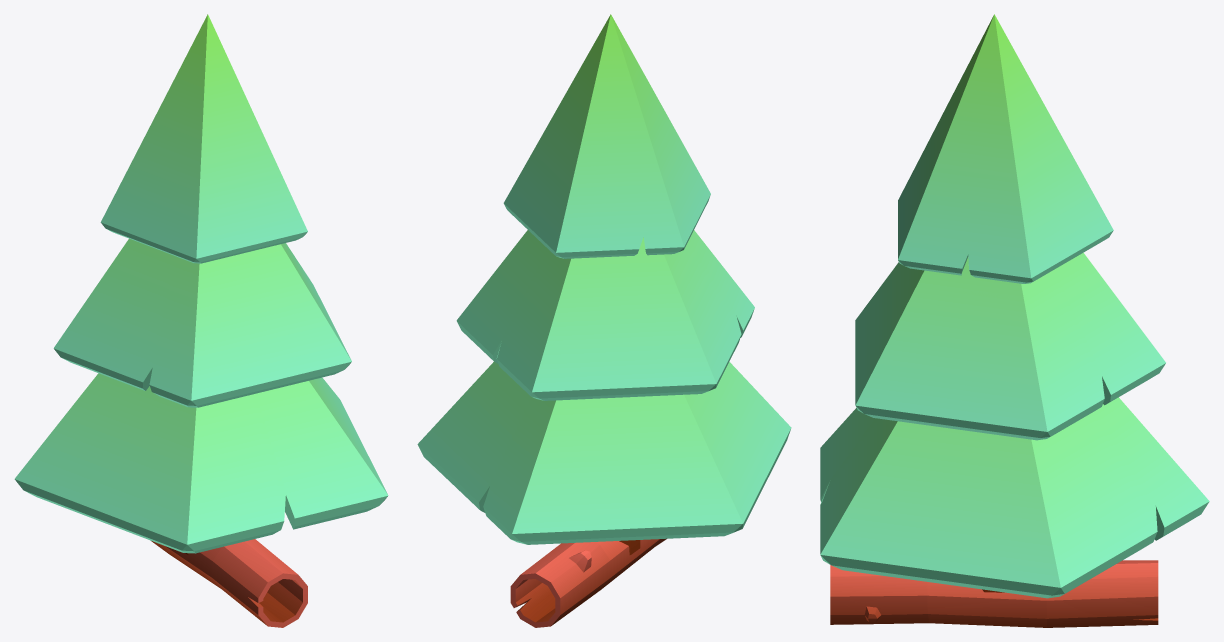
Rendered from treesnstuff.glb.
3 renders of one model, left to right at view 1: azimuth 30°, elevation 25°; view 2: azimuth 150°, elevation 25°; view 3: azimuth 270°, elevation 25°, orthographic. The views are drawn at different scales.
Parts seen in each view (by area): view 1: Cone, Cone.001, Cone.002, Cone.003, Cylinder.001; view 2: Cone, Cone.001, Cone.002, Cone.003, Cylinder.001; view 3: Cone, Cone.001, Cone.002, Cone.003, Cylinder.001.
Part boxes in pixels (left/top/right/bottom): Cone: left=14, top=373, right=388, bottom=553; Cone.001: left=53, top=238, right=350, bottom=407; Cone.002: left=100, top=14, right=306, bottom=263; Cone.003: left=86, top=16, right=351, bottom=407; Cylinder.001: left=151, top=539, right=307, bottom=627; Cone: left=417, top=362, right=791, bottom=544; Cone.001: left=456, top=230, right=754, bottom=400; Cone.002: left=503, top=14, right=710, bottom=258; Cone.003: left=497, top=43, right=754, bottom=400; Cylinder.001: left=510, top=538, right=666, bottom=627; Cone: left=820, top=397, right=1209, bottom=598; Cone.001: left=855, top=252, right=1165, bottom=440; Cone.002: left=898, top=14, right=1112, bottom=283; Cone.003: left=855, top=14, right=1159, bottom=440; Cylinder.001: left=830, top=560, right=1158, bottom=627.
Size of the model in its own units: 1.87 by 3.08 by 1.78.
1 material, 1 textured.
